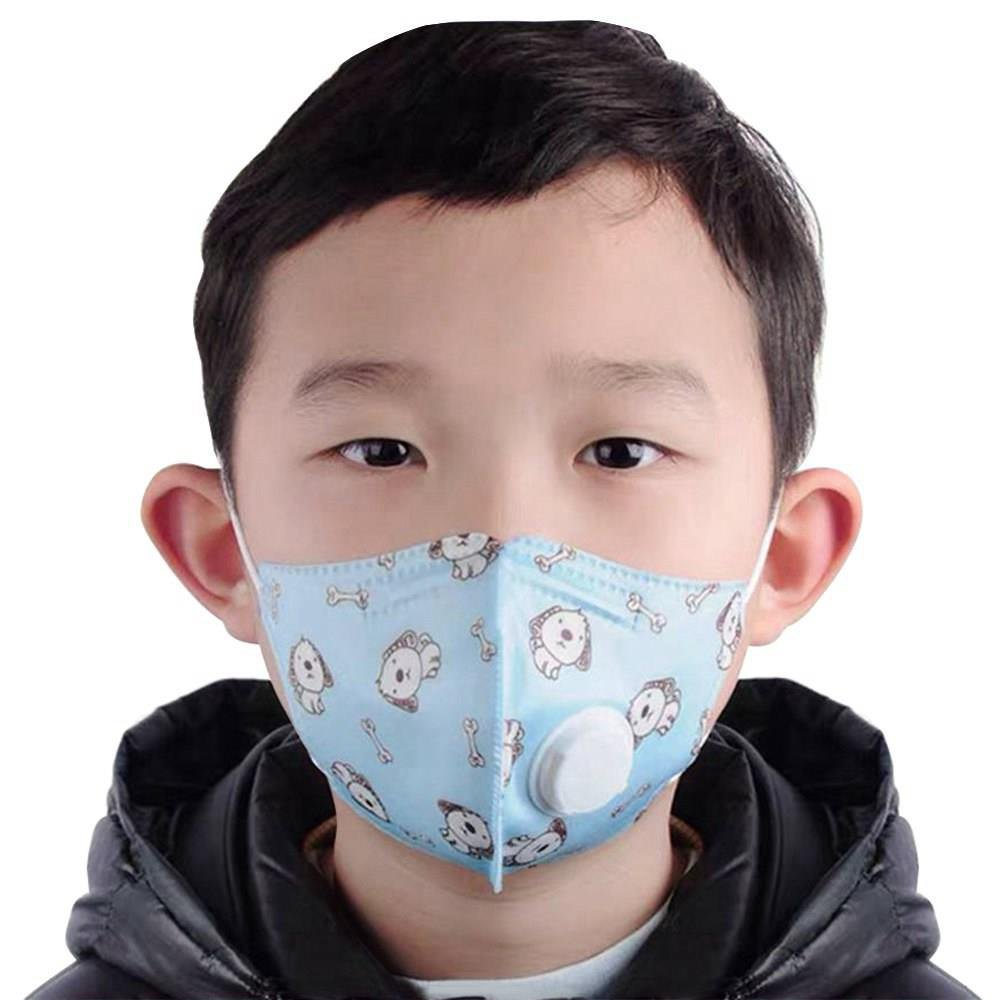mask: (107, 22, 889, 907)
